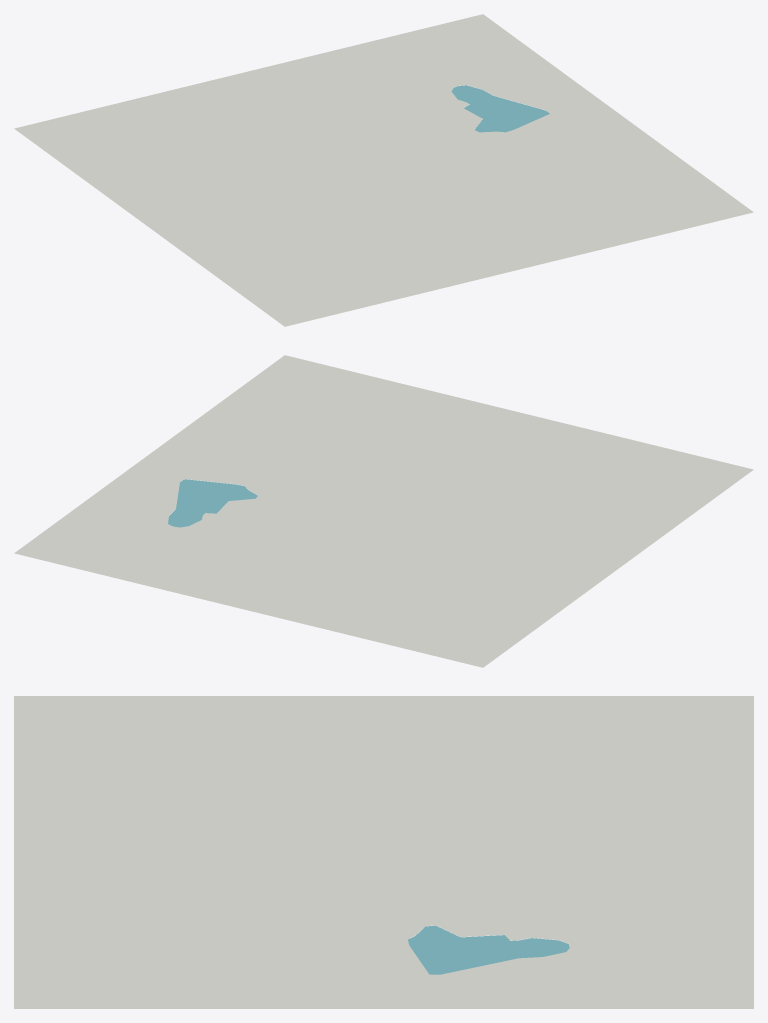
3 views of the same model, one above another, from view 1: azimuth 30°, elevation 25°; view 2: azimuth 150°, elevation 25°; view 3: azimuth 270°, elevation 25° (orthographic). The views are drawn at different scales.
Parts seen in each view (by area): view 1: city; view 2: city; view 3: city.
Part boxes in pixels (<box>): city: <box>14,14,753,326</box>; city: <box>14,355,753,667</box>; city: <box>14,696,753,1008</box>.
Size of the model in its own units: 500 by 0.18 by 500.
